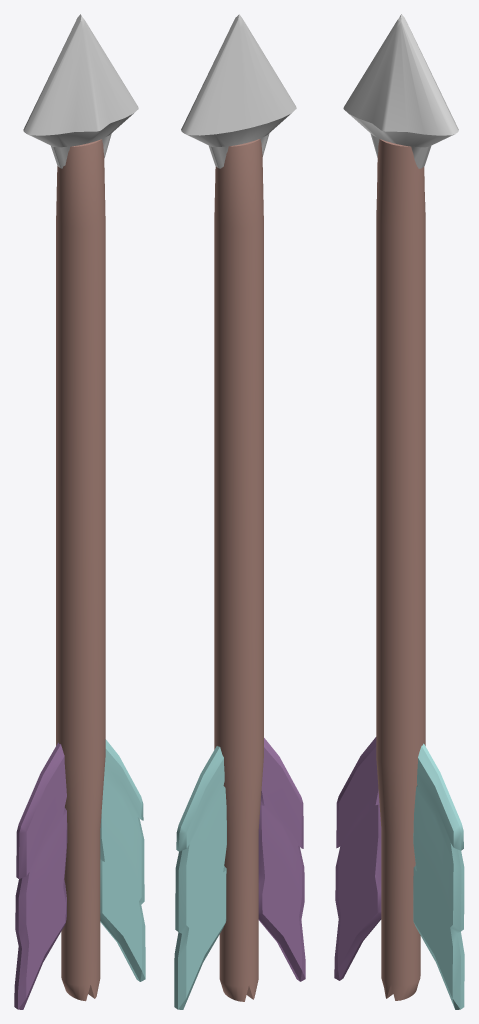
Rendered from Arrow.fbx.
3 renders of one model, left to right at view 1: azimuth 30°, elevation 25°; view 2: azimuth 210°, elevation 25°; view 3: azimuth 330°, elevation 25°, orthographic.
Visible parts, largest first — view 1: pCylinder1, pCube2, pCone1, pCube3; view 2: pCylinder1, pCube3, pCone1, pCube2; view 3: pCylinder1, pCube3, pCone1, pCube2.
Part boxes in pixels (<box>): pCylinder1: <box>56,139,105,1001</box>; pCube2: <box>14,742,67,1009</box>; pCone1: <box>23,14,138,168</box>; pCube3: <box>100,739,145,981</box>; pCylinder1: <box>214,139,263,1001</box>; pCube3: <box>174,746,226,1009</box>; pCone1: <box>181,14,296,168</box>; pCube2: <box>258,738,305,981</box>; pCylinder1: <box>376,139,425,1000</box>; pCube3: <box>413,743,464,1009</box>; pCone1: <box>343,14,458,168</box>; pCube2: <box>334,737,381,980</box>.
Bounding box in the file's own units: 5.9 × 43.5 × 2.44.
